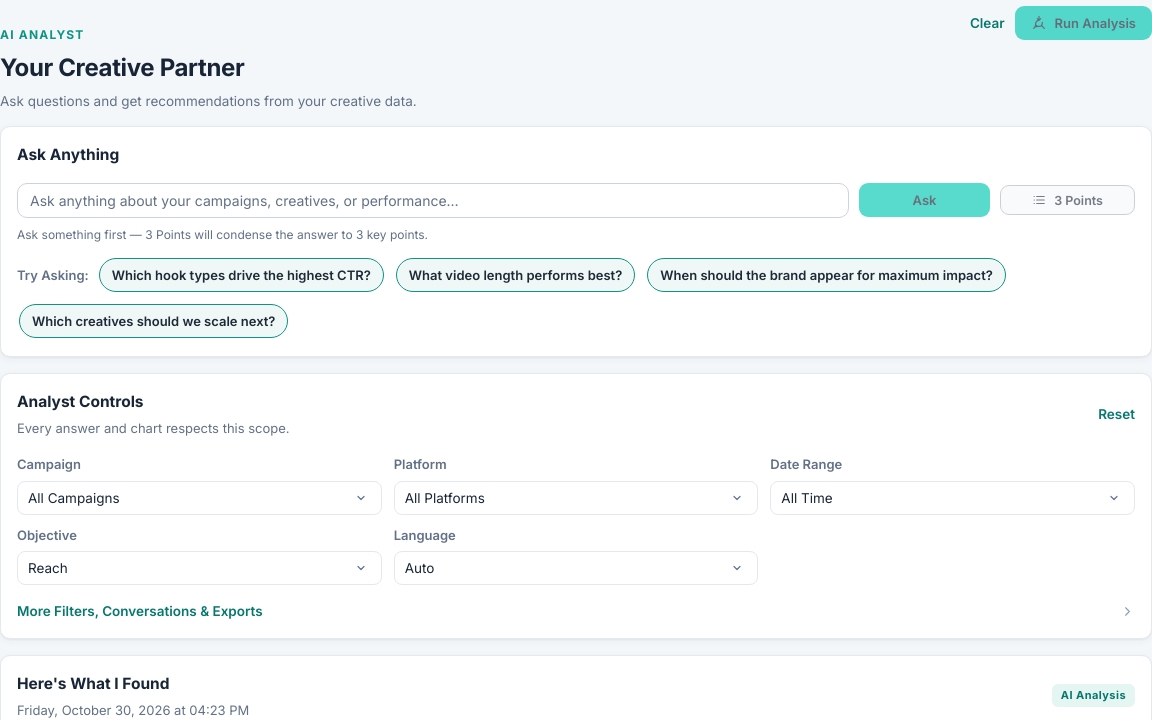
Test case: AnalystPage › renders controls and composer
Expected: the field named "Ask Foap Analyst" is shown, [17,183,849,218]
Expected: the text "Try Asking:" is shown, [17,265,89,285]
Click the heading "More Filters, Conversations & Exports" at (140, 611), box [17,601,1135,622]
(page scrolled)
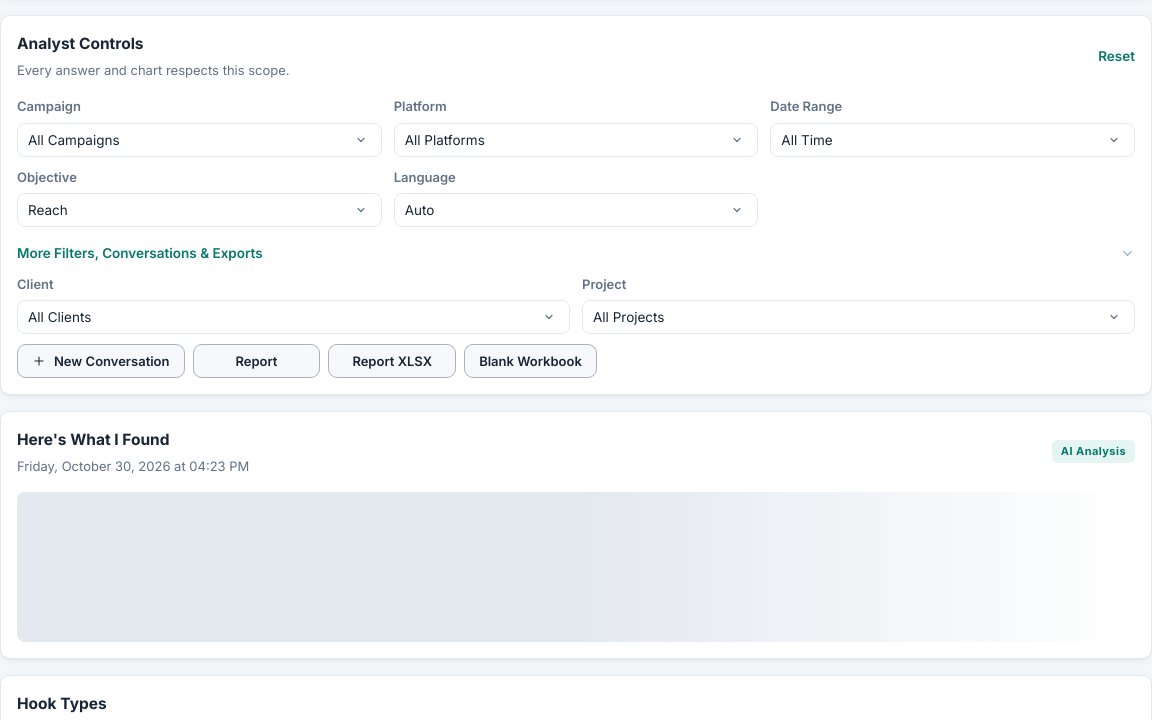
Expected: the button "New Conversation" is shown, [17,344,184,378]
